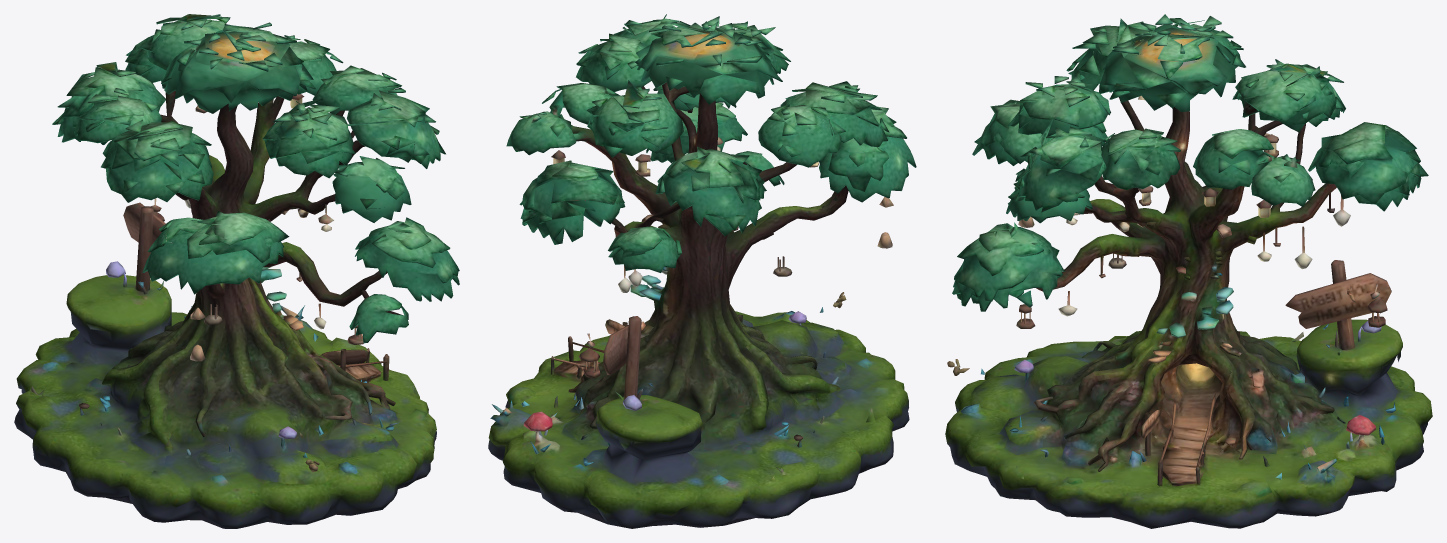
The model's file is tree_small.glb.
3 views of the same model, side by side, from view 1: azimuth 30°, elevation 25°; view 2: azimuth 150°, elevation 25°; view 3: azimuth 270°, elevation 25° (orthographic). The views are drawn at different scales.
Parts seen in each view (by area): view 1: tripo_node_426c1945-e4f4-450e-bc99-7dd34d875f3c; view 2: tripo_node_426c1945-e4f4-450e-bc99-7dd34d875f3c; view 3: tripo_node_426c1945-e4f4-450e-bc99-7dd34d875f3c.
Part boxes in pixels (box(x1,y1,x2,y2)): tripo_node_426c1945-e4f4-450e-bc99-7dd34d875f3c: box(14, 14, 459, 528); tripo_node_426c1945-e4f4-450e-bc99-7dd34d875f3c: box(488, 14, 916, 528); tripo_node_426c1945-e4f4-450e-bc99-7dd34d875f3c: box(945, 14, 1432, 528).
Bounding box in the file's own units: 0.8319 × 0.9373 × 0.9941.
1 material, 1 textured.
